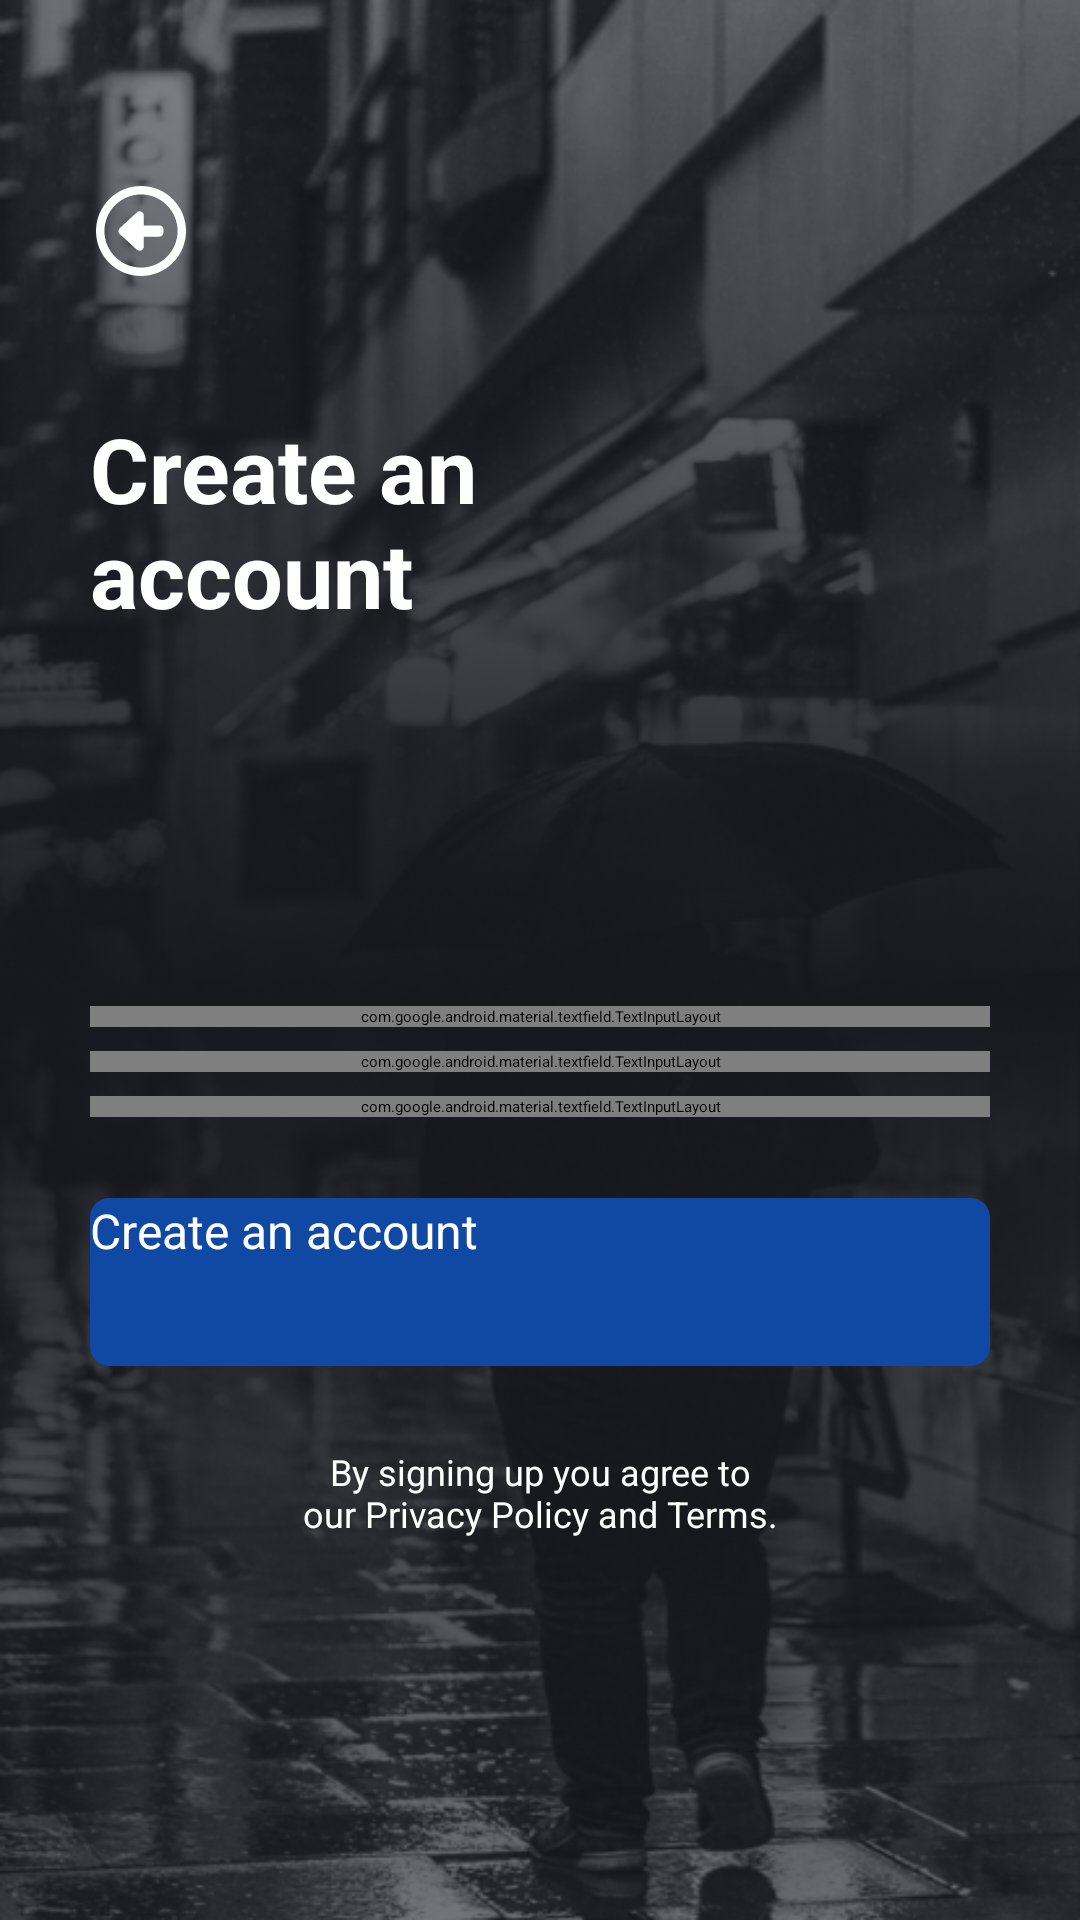

Screen size 1080*1920. Icon name, then its center in pixels as [x,y]:
back: [141,231]
